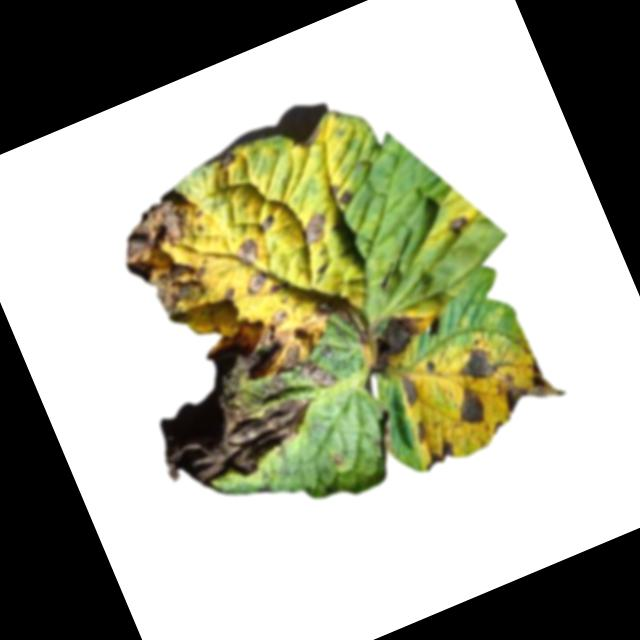Early_blight: (145, 360, 325, 507), (106, 184, 235, 334), (189, 281, 319, 402), (355, 305, 438, 381), (495, 351, 571, 420), (308, 278, 375, 353), (452, 341, 503, 388), (449, 383, 492, 430), (298, 356, 338, 397), (417, 434, 460, 472), (296, 208, 332, 247), (396, 369, 429, 410), (239, 266, 277, 301), (234, 235, 265, 268), (446, 209, 476, 240), (211, 147, 242, 175), (411, 418, 434, 444), (255, 213, 280, 235), (220, 280, 242, 305)
